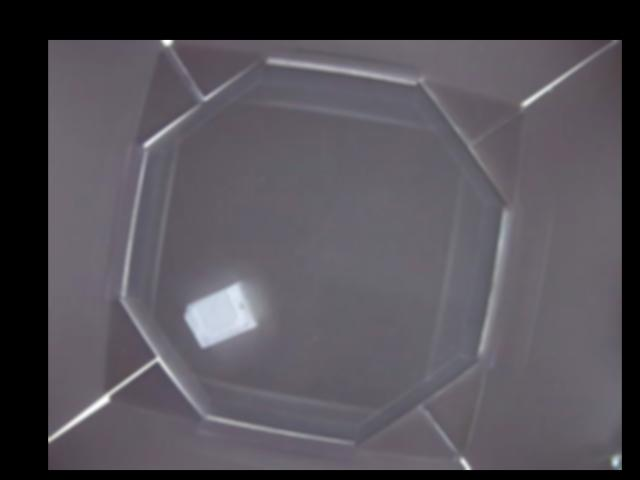China: (181, 283, 256, 348)
